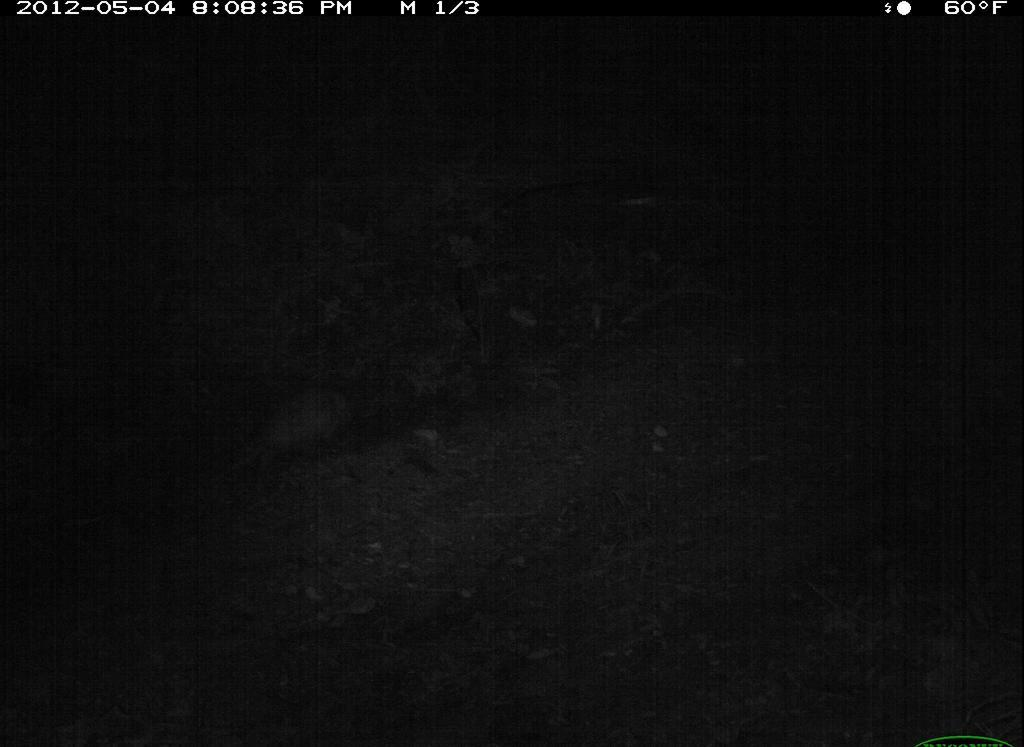opossum: (203, 385, 364, 488)
